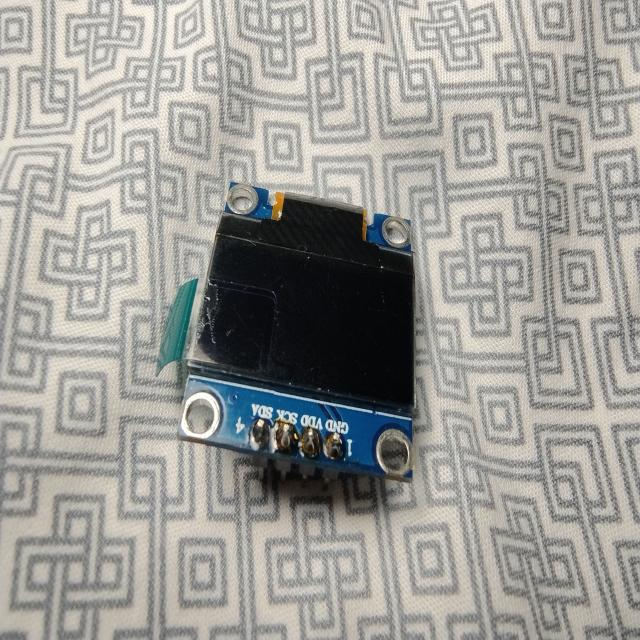oled: (155, 170, 434, 511)
